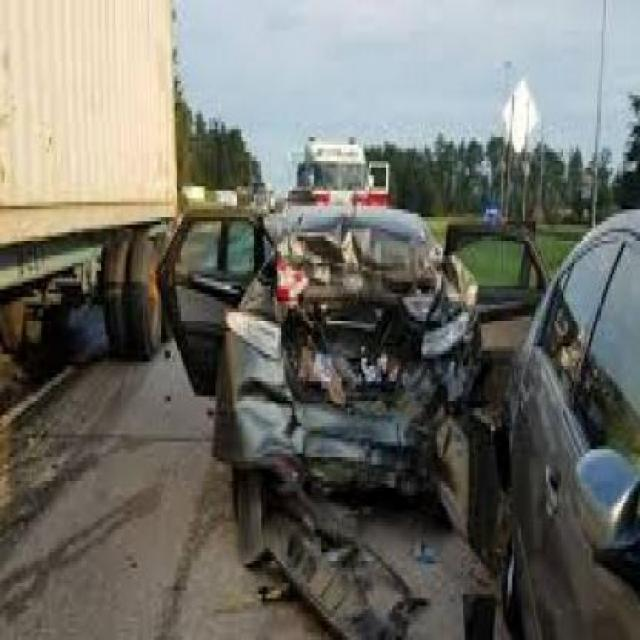accident: (144, 148, 587, 635)
